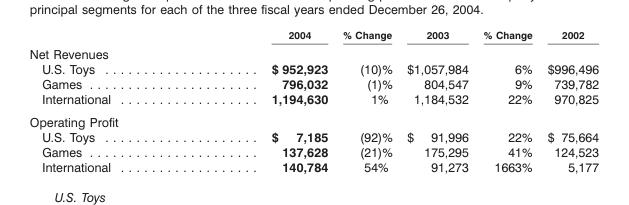table: (28, 28, 598, 173)
table column: (28, 28, 190, 173), (190, 28, 334, 173), (398, 28, 475, 173), (334, 28, 398, 173), (475, 28, 539, 173), (539, 28, 598, 173)
table column header: (28, 28, 598, 43)
table projected row header: (28, 109, 598, 128), (28, 43, 598, 61)
table row: (28, 109, 598, 128), (28, 43, 598, 61), (28, 91, 598, 109), (28, 28, 598, 43), (28, 61, 598, 76), (28, 76, 598, 91), (28, 128, 598, 143), (28, 143, 598, 158), (28, 158, 598, 173)
